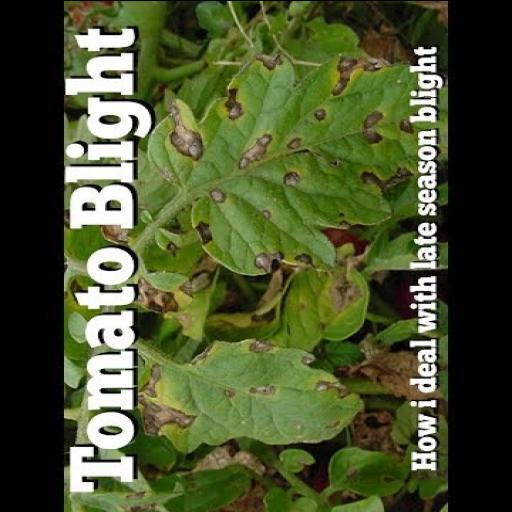Early Blight: (144, 52, 412, 276), (134, 336, 364, 450)
